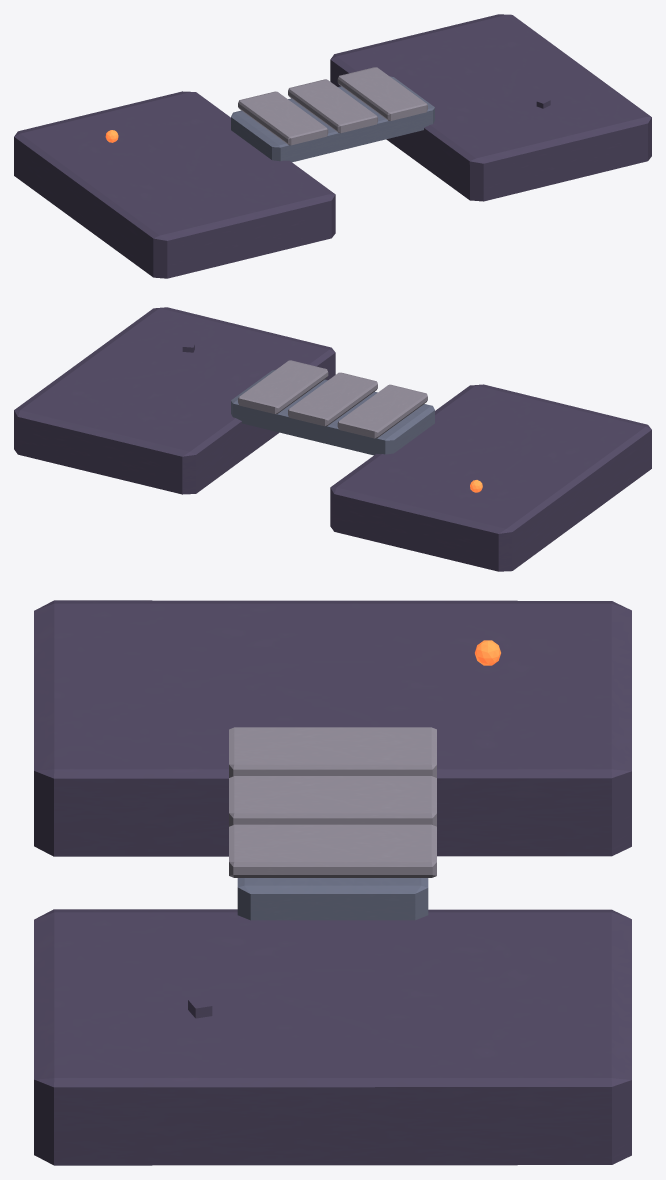
File: cinder-span.glb
The picture shows the model from 3 angles, top to bottom: view 1: azimuth 30°, elevation 25°; view 2: azimuth 150°, elevation 25°; view 3: azimuth 270°, elevation 25°; orthographic projection. The views are drawn at different scales.
Parts seen in each view (by area): view 1: cinder-left-cliff, cinder-right-cliff, cinder-bridge, cinder-segment-0, cinder-segment-2, cinder-segment-1; view 2: cinder-left-cliff, cinder-right-cliff, cinder-bridge, cinder-segment-0, cinder-segment-2, cinder-segment-1; view 3: cinder-right-cliff, cinder-left-cliff, cinder-segment-2, cinder-segment-0, cinder-segment-1, cinder-bridge.
Boxes of the visible parts, x1,y1,x2,y2 form: cinder-left-cliff: [14, 91, 335, 278]; cinder-right-cliff: [330, 14, 651, 201]; cinder-bridge: [231, 76, 434, 162]; cinder-segment-0: [238, 91, 328, 145]; cinder-segment-2: [337, 67, 427, 120]; cinder-segment-1: [288, 79, 377, 133]; cinder-left-cliff: [330, 384, 651, 571]; cinder-right-cliff: [14, 307, 335, 494]; cinder-bridge: [231, 369, 434, 455]; cinder-segment-0: [337, 384, 427, 438]; cinder-segment-2: [238, 360, 328, 414]; cinder-segment-1: [288, 372, 377, 426]; cinder-right-cliff: [34, 909, 631, 1165]; cinder-left-cliff: [34, 600, 631, 856]; cinder-segment-2: [229, 824, 436, 877]; cinder-segment-0: [229, 727, 436, 777]; cinder-segment-1: [229, 776, 436, 826]; cinder-bridge: [237, 878, 428, 920].
Size of the model in its own units: 5.2 by 0.65 by 2.7.
4 materials, 4 textured.
